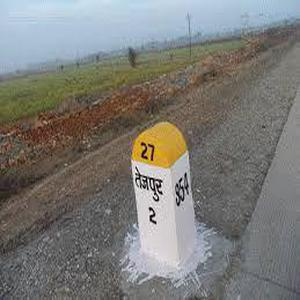kmstone: (121, 121, 204, 264)
